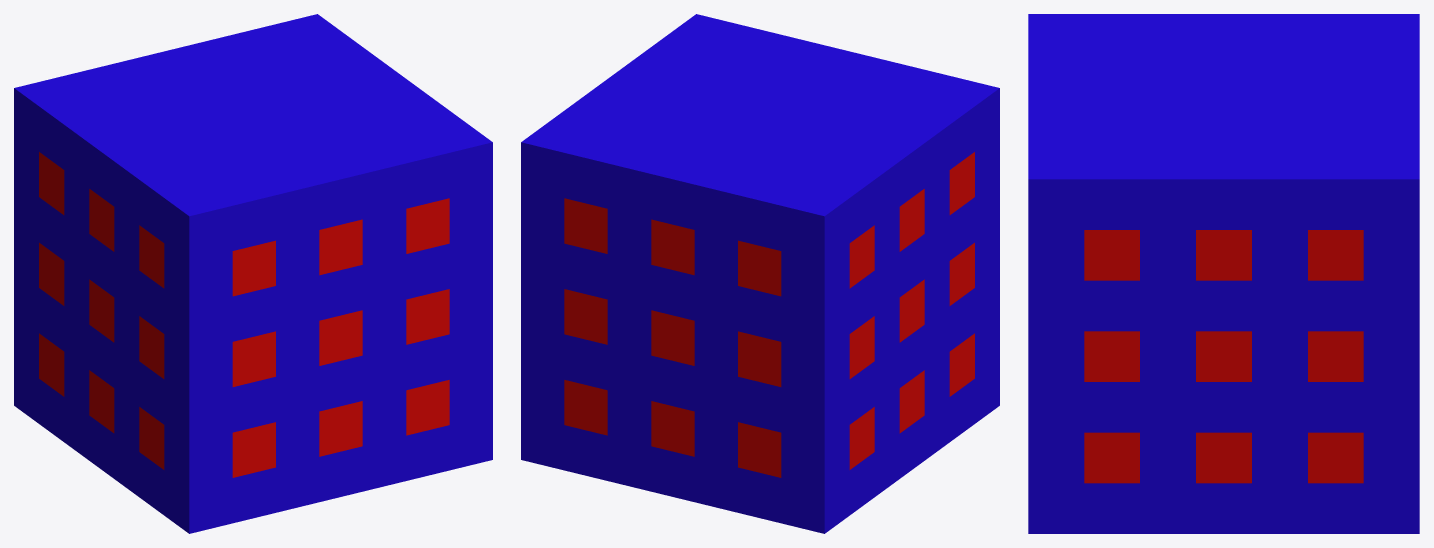
The model's file is CubeTest.fbx.
3 renders of one model, left to right at view 1: azimuth 30°, elevation 25°; view 2: azimuth 150°, elevation 25°; view 3: azimuth 270°, elevation 25°, orthographic. The views are drawn at different scales.
Parts seen in each view (by area): view 1: Cube; view 2: Cube; view 3: Cube.
Boxes of the visible parts, x1,y1,x2,y2 form: Cube: (14,14,492,533); Cube: (521,14,999,533); Cube: (1028,14,1419,533).
Bounding box in the file's own units: 1594 × 1594 × 1594.
